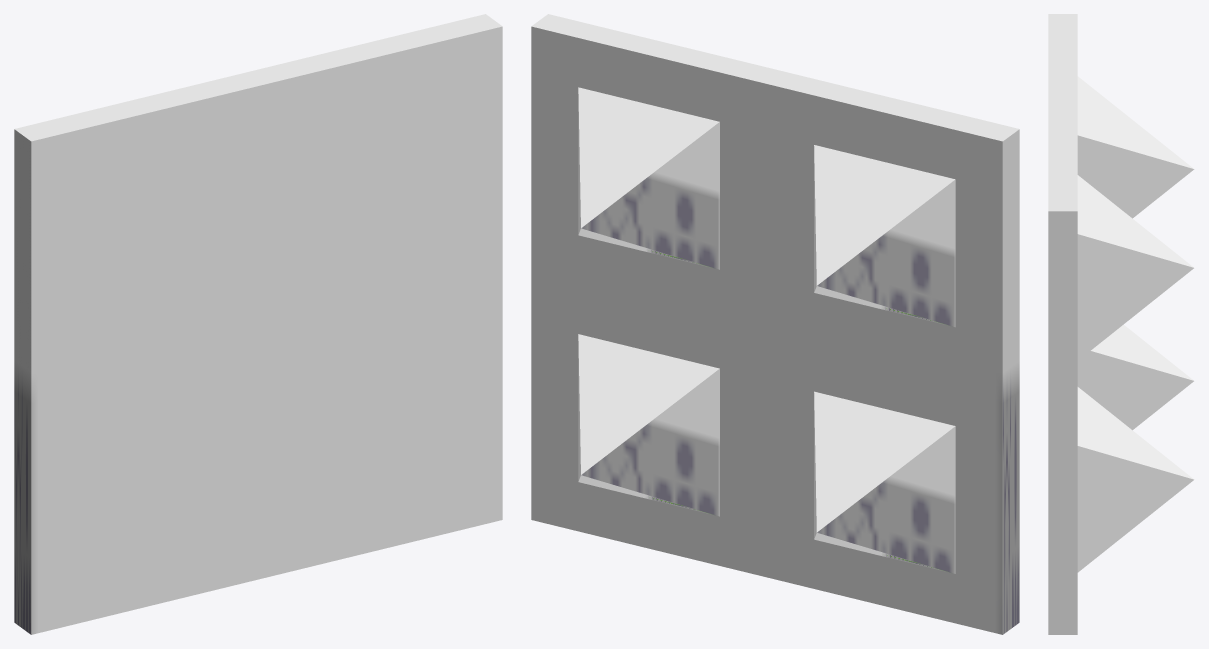
The model's file is WallSpikeTall.obj.
The picture shows the model from 3 angles, left to right: view 1: azimuth 30°, elevation 25°; view 2: azimuth 150°, elevation 25°; view 3: azimuth 270°, elevation 25°; orthographic projection. The views are drawn at different scales.
Visible parts, largest first — view 1: Base; view 2: Base, Spike1.002, Spike1, Spike1.003, Spike1.001; view 3: Base, Spike1, Spike1.002, Spike1.003, Spike1.001.
Boxes of the visible parts, x1,y1,x2,y2 form: Base: (14, 14, 502, 634); Base: (531, 14, 1019, 634); Spike1.002: (578, 87, 719, 269); Spike1: (578, 334, 719, 516); Spike1.003: (814, 145, 955, 327); Spike1.001: (814, 391, 955, 573); Base: (1048, 14, 1077, 634); Spike1: (1077, 387, 1194, 572); Spike1.002: (1077, 175, 1193, 360); Spike1.003: (1077, 76, 1194, 218); Spike1.001: (1077, 324, 1193, 430).
Size of the model in its own units: 1.6 by 1.6 by 0.5.
